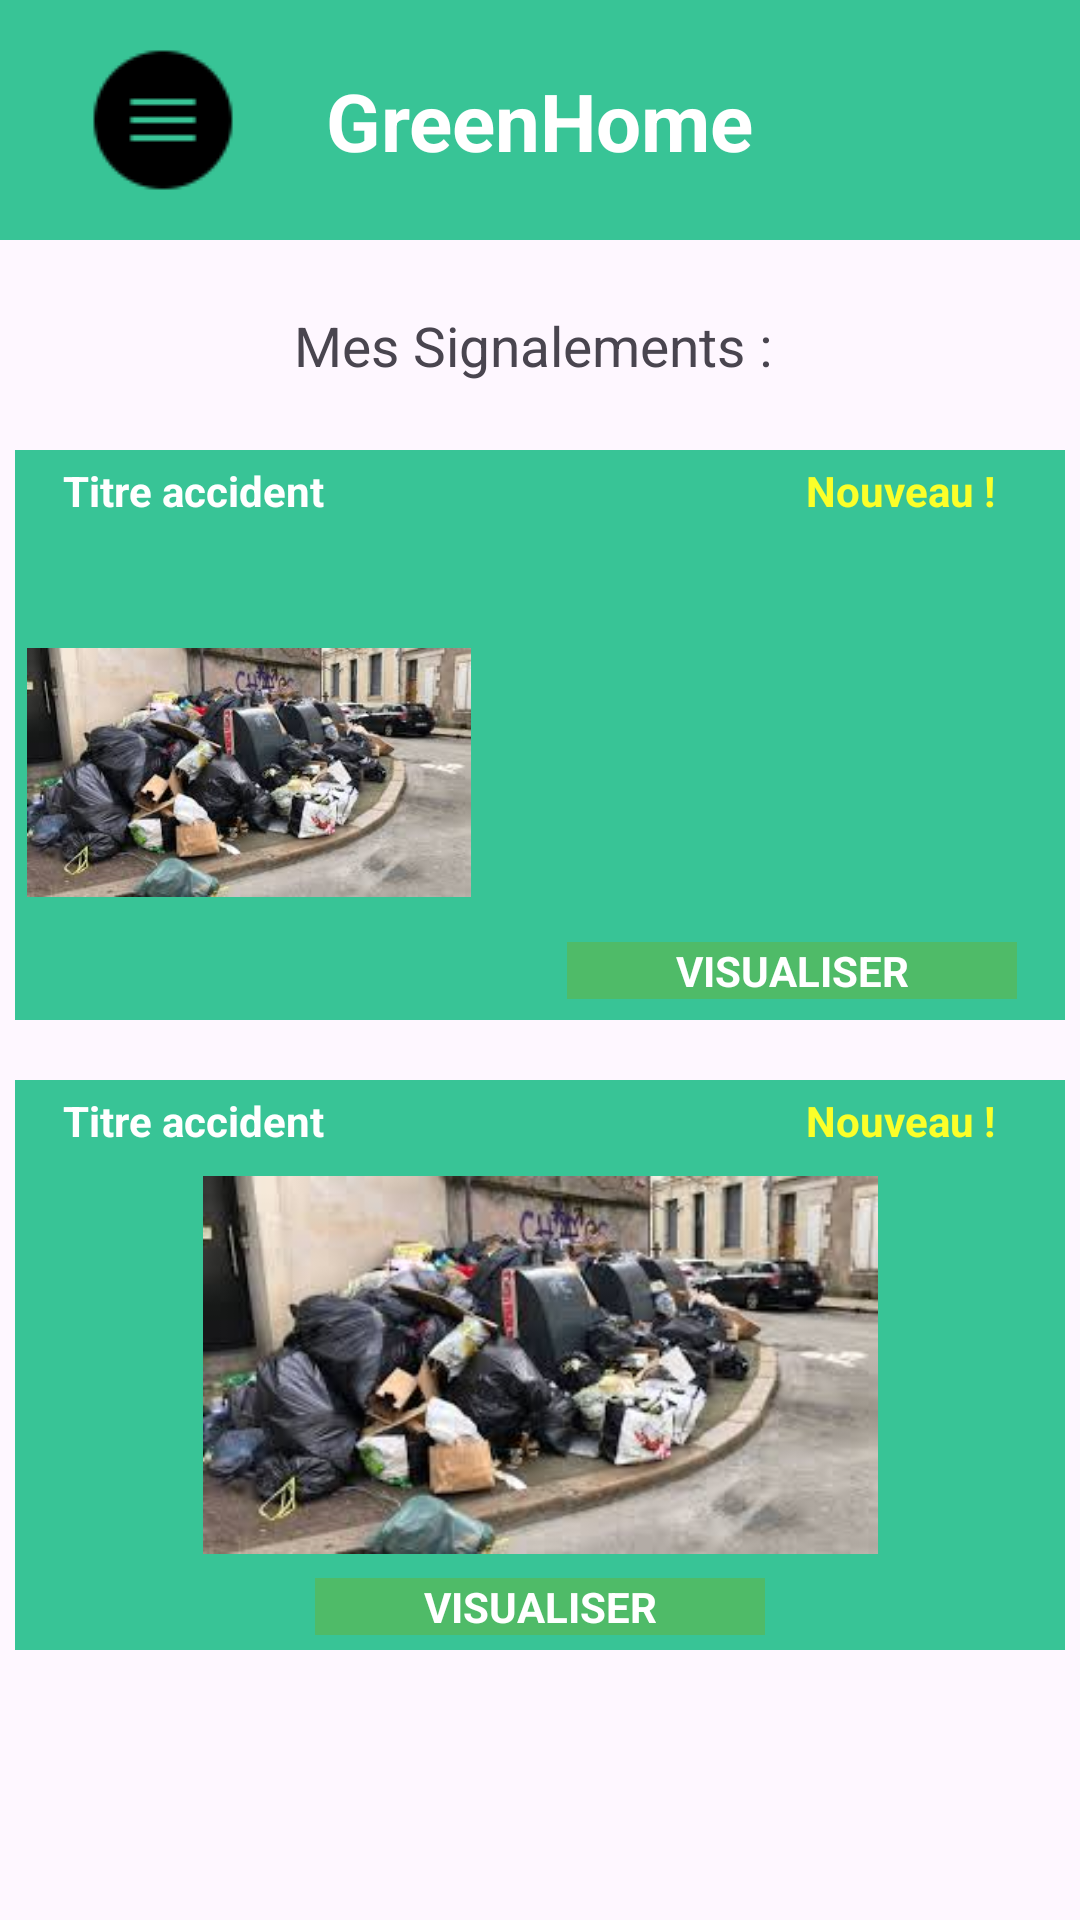

Icon click points for this 1080 x 1920 phone screenshot, format point (x, y):
bars: point (163, 120)
